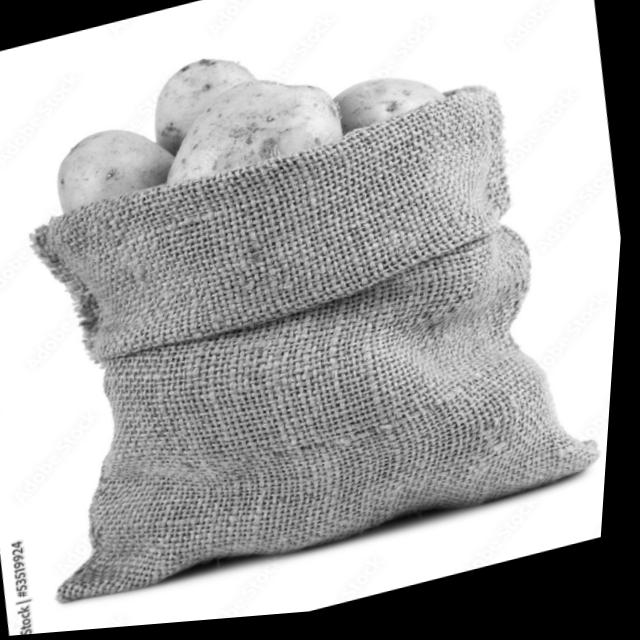sack: (0, 69, 632, 617)
